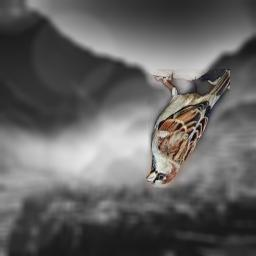Sparrow: (146, 69, 230, 188)
